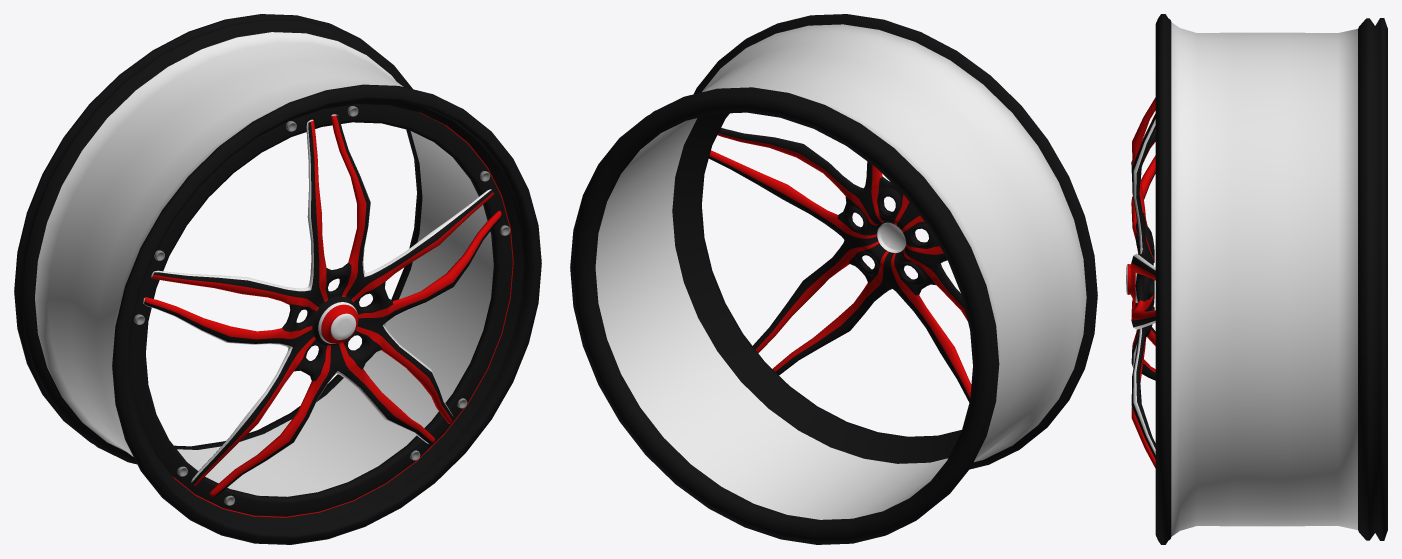
The model's file is 5X10Rim.fbx.
3 views of the same model, side by side, from view 1: azimuth 30°, elevation 25°; view 2: azimuth 150°, elevation 25°; view 3: azimuth 270°, elevation 25° (orthographic). The views are drawn at different scales.
Visible parts, largest first — view 1: Rim_LOD0; view 2: Rim_LOD0; view 3: Rim_LOD0.
Boxes of the visible parts, bbox=[...] form: Rim_LOD0: bbox=[14, 14, 541, 544]; Rim_LOD0: bbox=[570, 14, 1097, 544]; Rim_LOD0: bbox=[1126, 14, 1387, 544].
Size of what is drawn, in the model's own units: 205 by 205 by 100.
